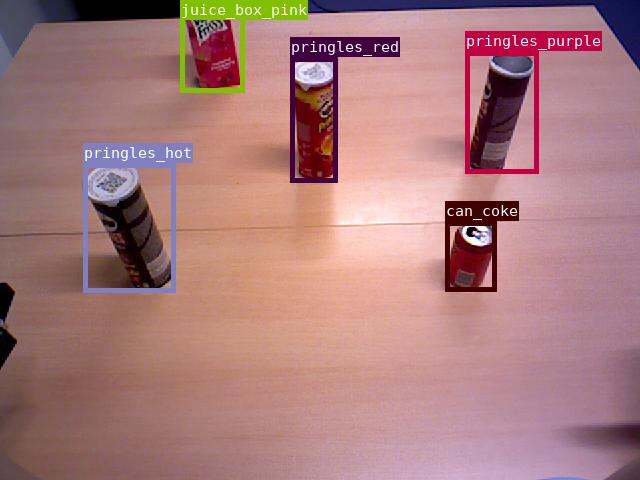can_coke: (445, 221, 496, 291)
juice_box_pink: (180, 0, 244, 92)
pringles_hot: (83, 163, 175, 292)
pringles_purple: (465, 51, 538, 173)
pringles_red: (290, 57, 337, 182)
